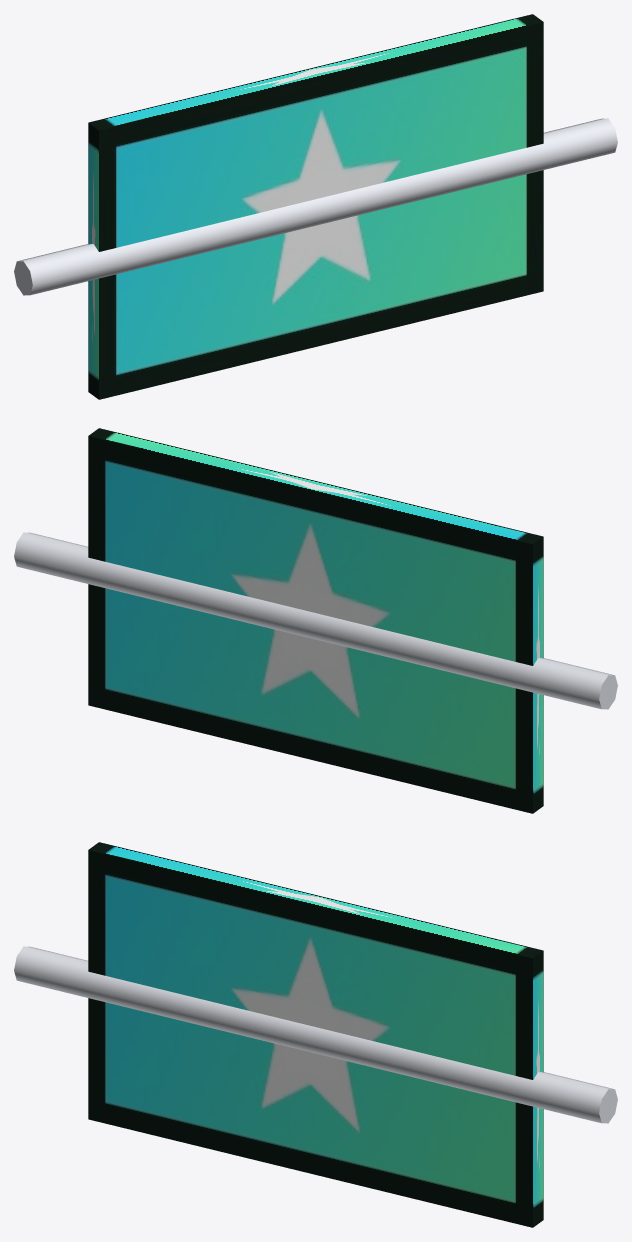
Rendered from pp_spinner.glb.
3 renders of one model, top to bottom at view 1: azimuth 30°, elevation 25°; view 2: azimuth 150°, elevation 25°; view 3: azimuth 330°, elevation 25°, orthographic.
Visible parts, largest first — view 1: Plate, Axle; view 2: Plate, Axle; view 3: Plate, Axle.
Boxes of the visible parts, x1,y1,x2,y2 form: Plate: (88, 14, 543, 399); Axle: (14, 118, 617, 295); Plate: (88, 428, 543, 813); Axle: (14, 532, 617, 709); Plate: (88, 842, 543, 1227); Axle: (14, 946, 617, 1123).
Bounding box in the file's own units: 0.05 × 0.022 × 0.0028.
Materials: 7 (6 with a texture image).
